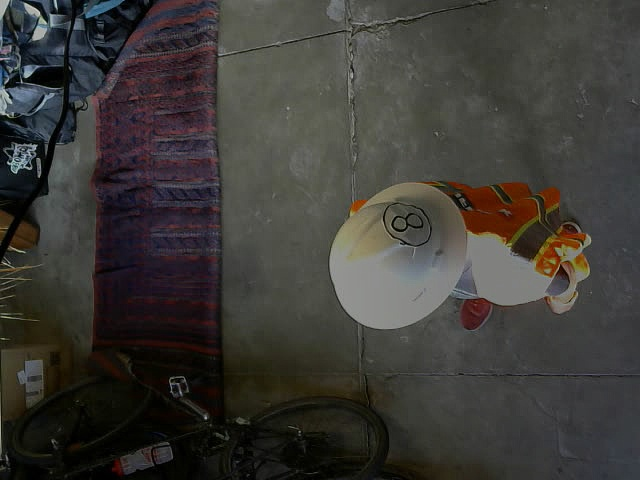eight: (384, 201, 432, 246)
